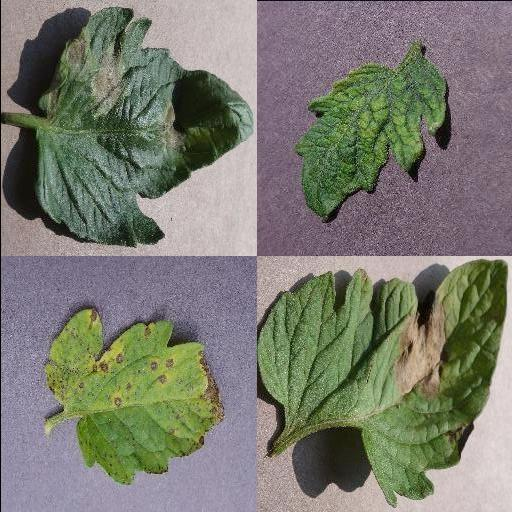Late Blight: (256, 258, 508, 508), (34, 5, 254, 249)
Mosaic Virus: (293, 57, 449, 221)
Septoria: (44, 307, 226, 486)
